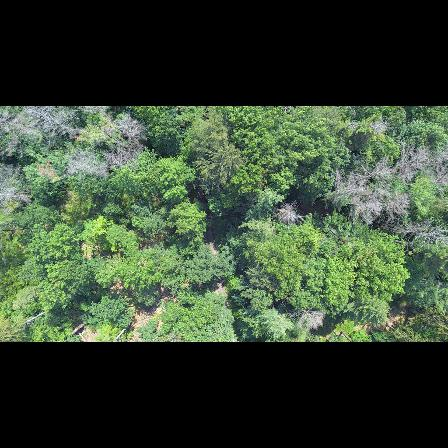Dead: (17, 106, 92, 137), (376, 216, 448, 246), (318, 173, 381, 202), (114, 112, 151, 161), (347, 196, 407, 226), (67, 149, 111, 182), (389, 143, 433, 173), (287, 304, 328, 333), (0, 174, 39, 204), (270, 199, 308, 225), (372, 170, 413, 189)
